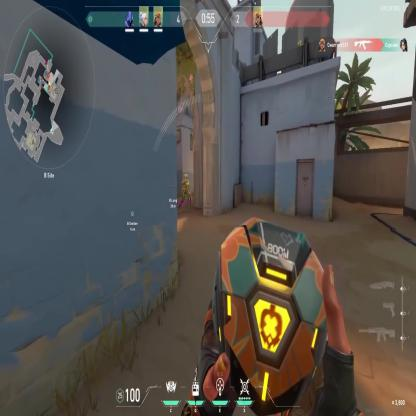enemy: (178, 172, 191, 216)
enemy_head: (184, 174, 188, 181)
